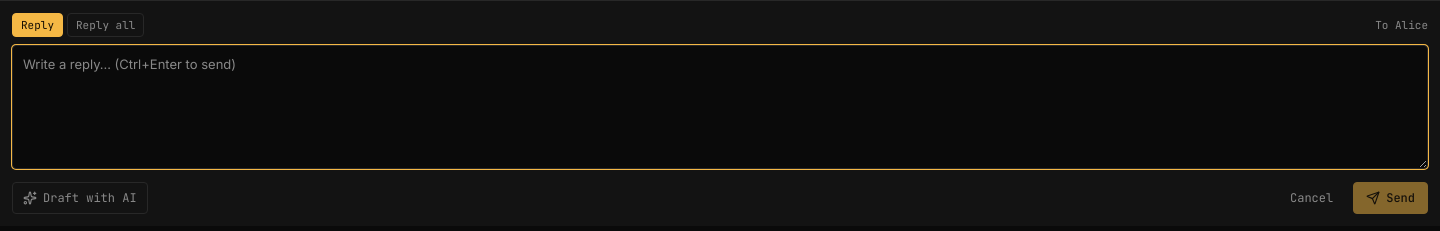
Test: ReplyComposer draft with AI › fills the body from the draft on success
Click the button "Draft with AI" at (80, 198), box [12,182,148,214]
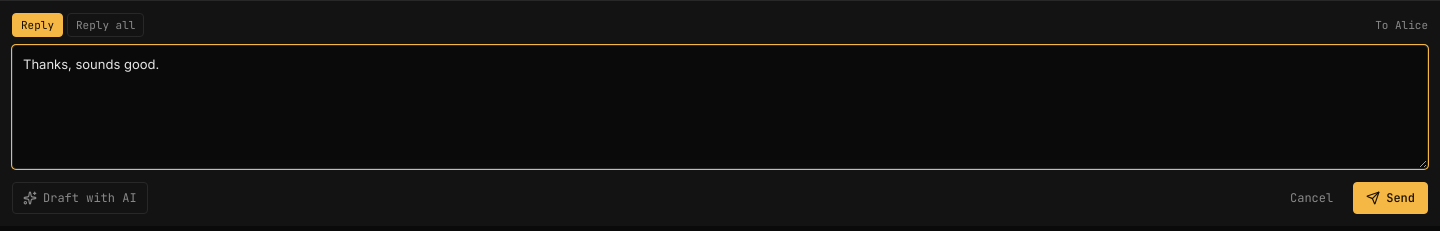
Result: the text box holds "Thanks, sounds good." at [12,45,1428,169]
